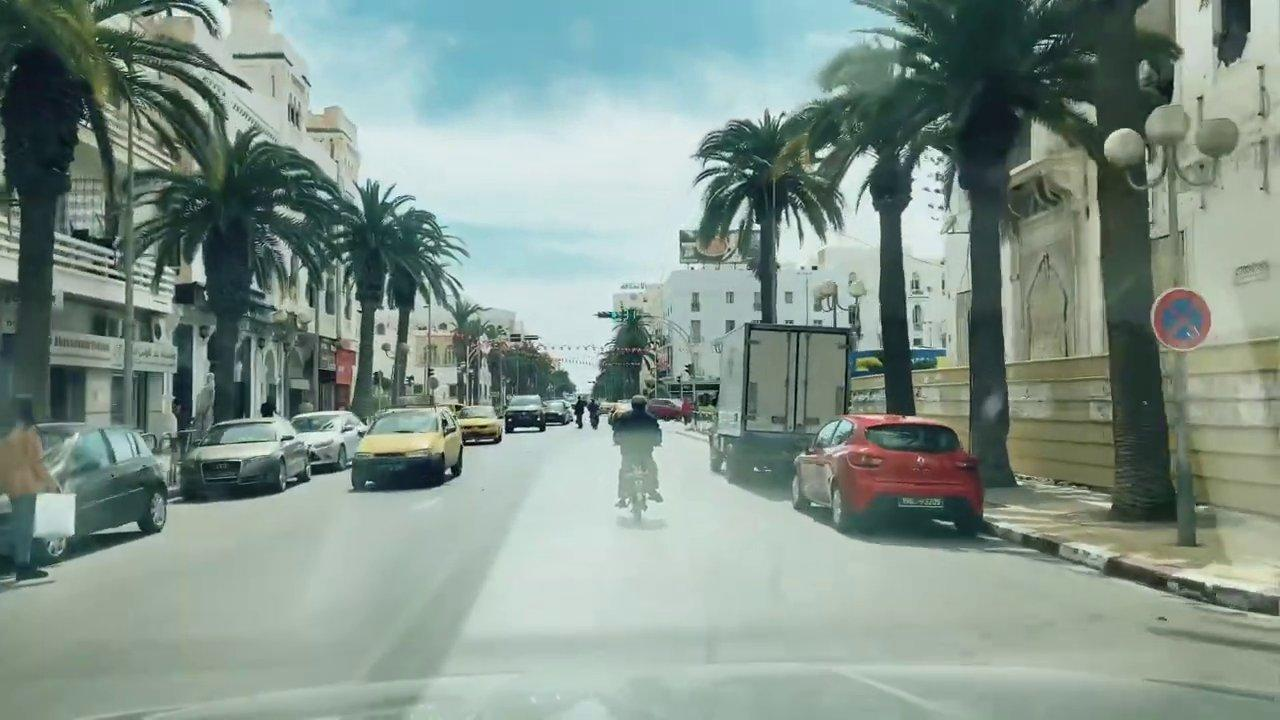no stopping: (1146, 285, 1215, 357)
